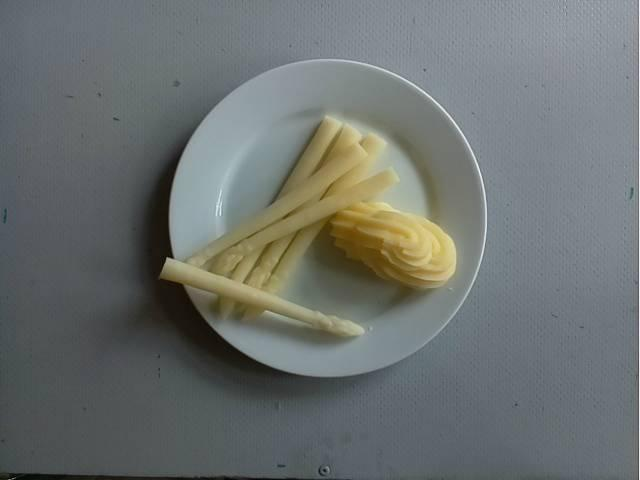Asparagus + mashed potatoes: (168, 113, 459, 344)
